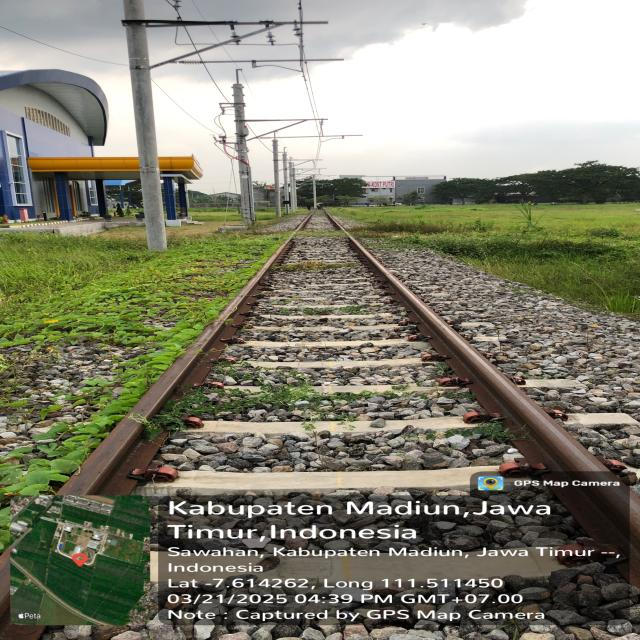rail-detection: (348, 237, 615, 482), (60, 238, 293, 494), (558, 485, 640, 547)
